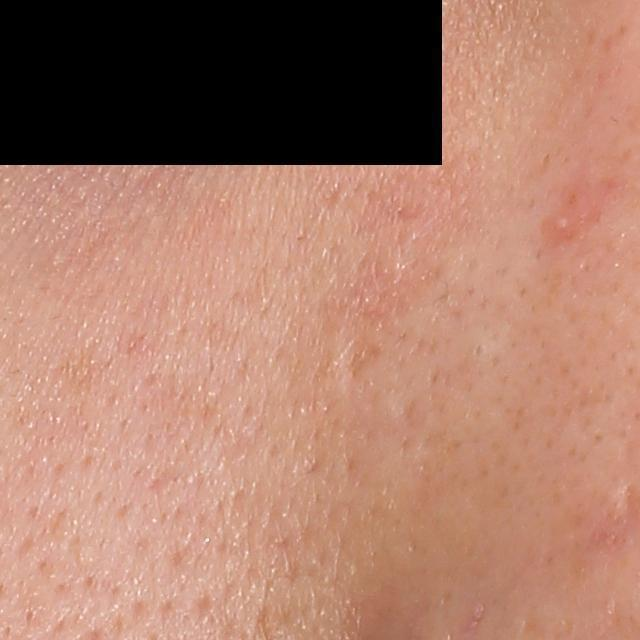atrophic_scar: (339, 335, 386, 383)
